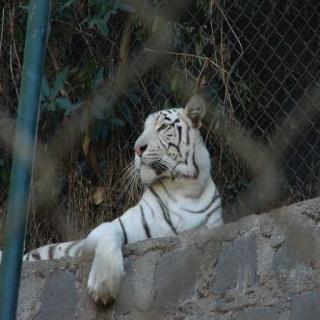Tiger: (20, 97, 233, 304)
